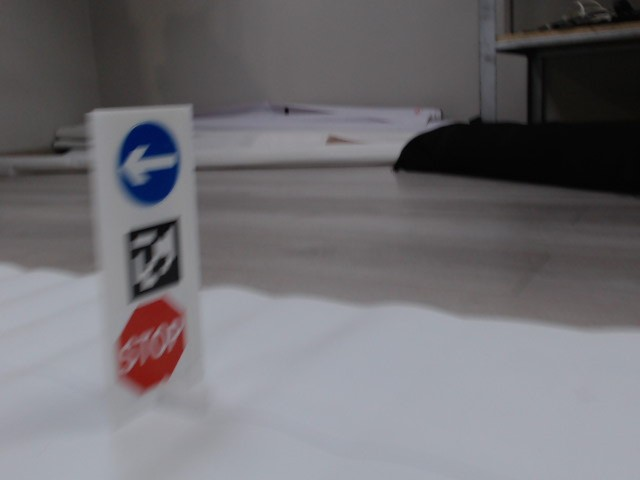Stop: (108, 301, 190, 395)
